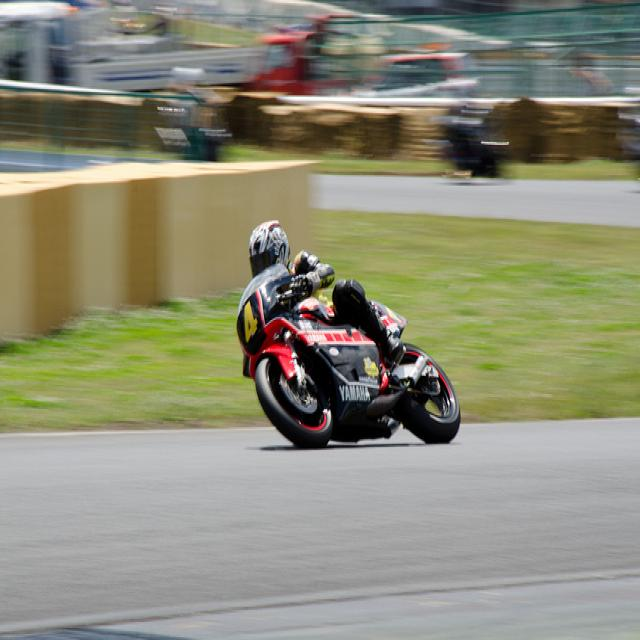motor: (235, 262, 462, 449)
